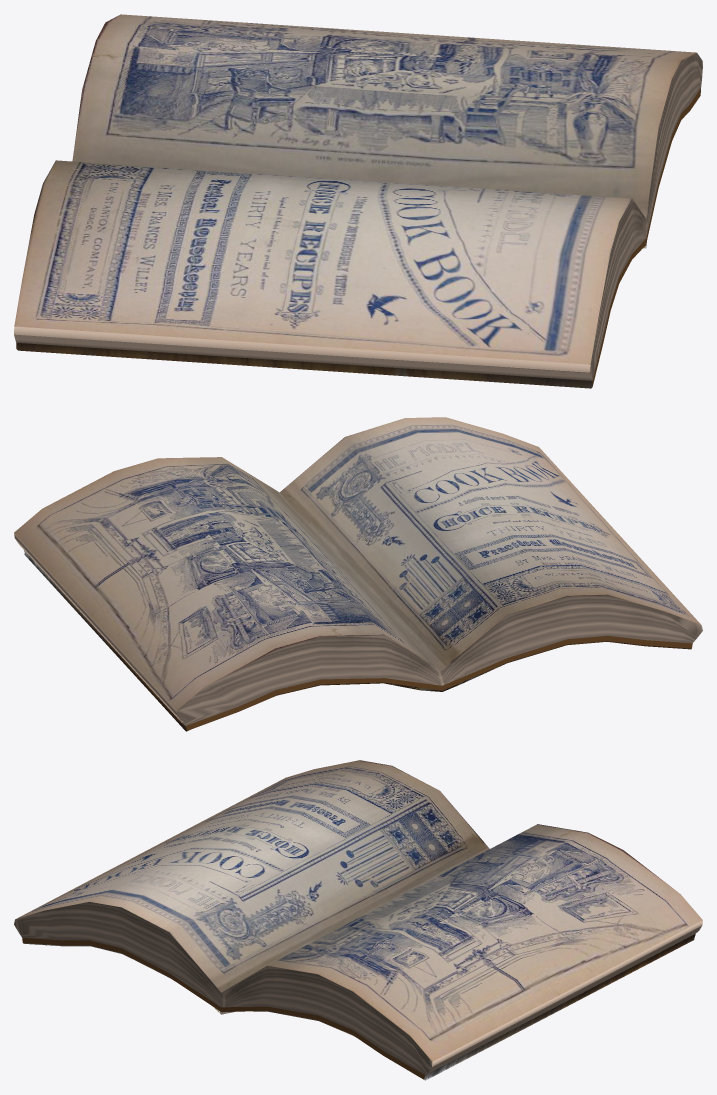
The model's file is cookbook_open.fbx.
The picture shows the model from 3 angles, top to bottom: view 1: azimuth 30°, elevation 25°; view 2: azimuth 150°, elevation 25°; view 3: azimuth 270°, elevation 25°; orthographic projection. The views are drawn at different scales.
Visible parts, largest first — view 1: open_book6; view 2: open_book6; view 3: open_book6.
Boxes of the visible parts, box(x1,y1,x2,y2) form: open_book6: box(14, 14, 702, 388); open_book6: box(14, 417, 702, 731); open_book6: box(14, 760, 702, 1080).
Bounding box in the file's own units: 0.5204 × 0.0626 × 0.5329.
